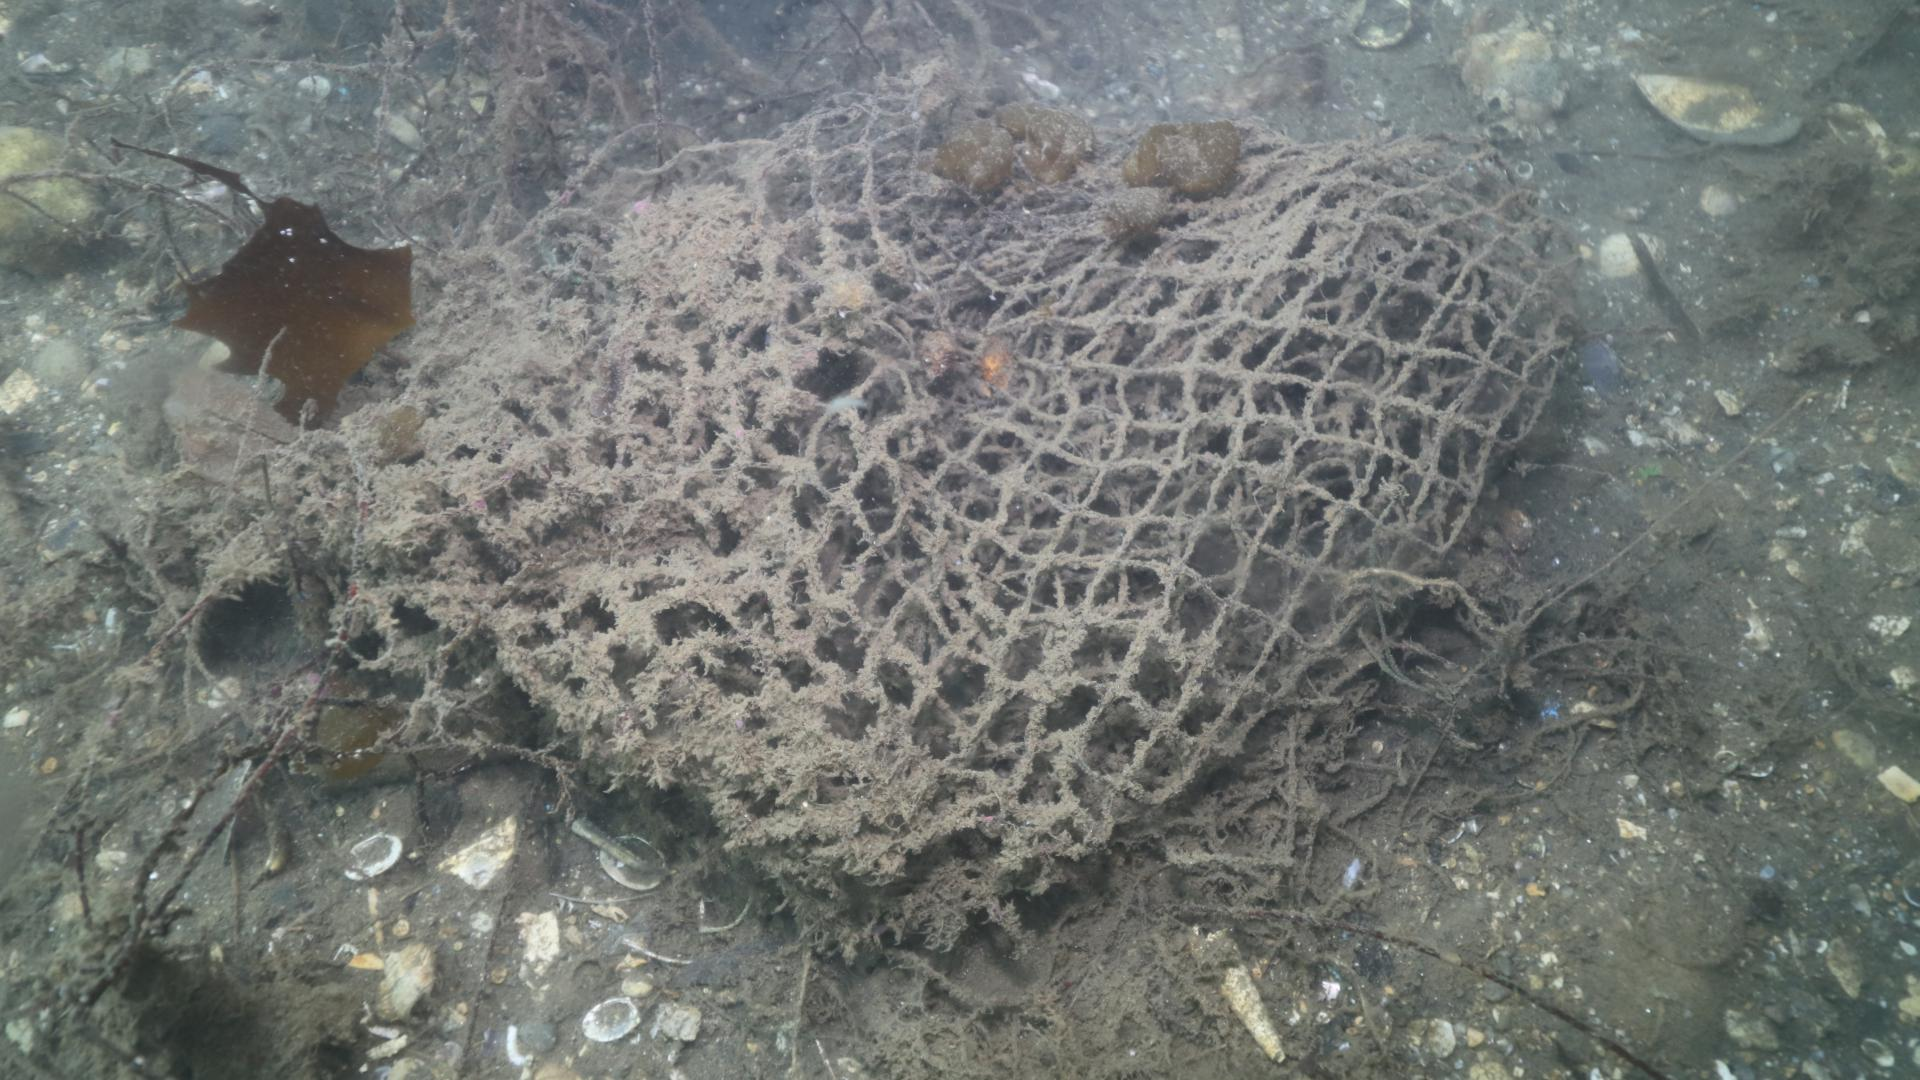fish net: (360, 88, 1580, 906)
